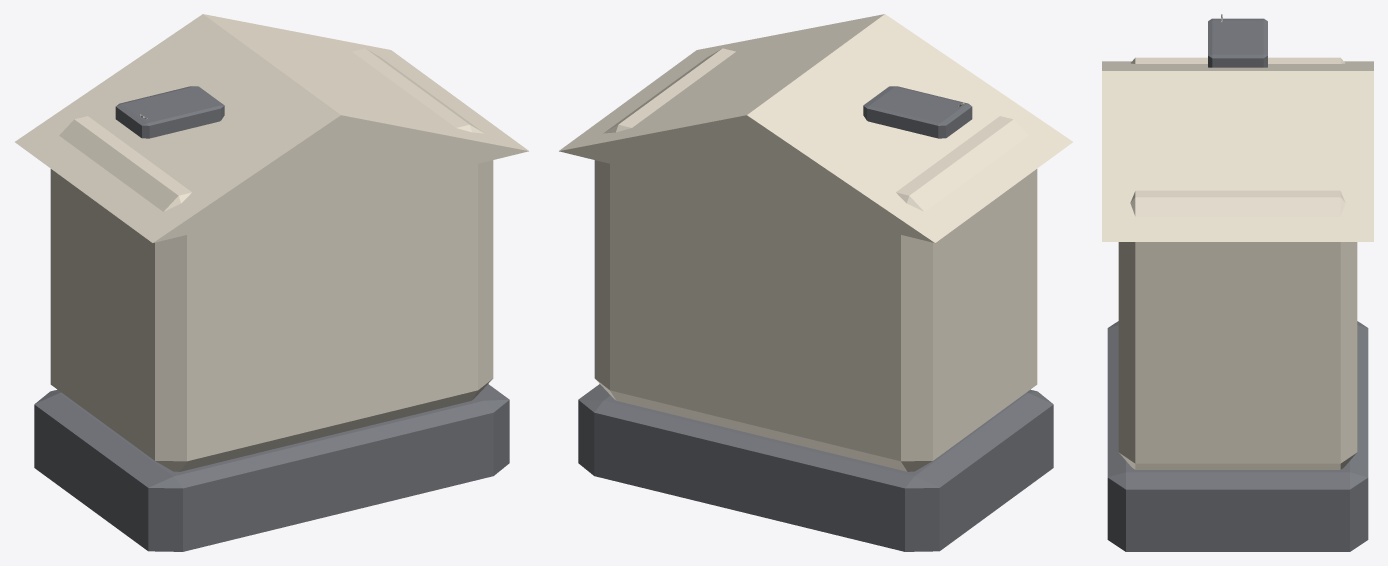
The model's file is b10_farmers_market_canvas_stall.glb.
3 views of the same model, side by side, from view 1: azimuth 30°, elevation 25°; view 2: azimuth 150°, elevation 25°; view 3: azimuth 270°, elevation 25° (orthographic).
Visible parts, largest first — view 1: b10_farmers_market_canvas_stall; view 2: b10_farmers_market_canvas_stall; view 3: b10_farmers_market_canvas_stall.
Part boxes in pixels (x1,y1,x2,y2): b10_farmers_market_canvas_stall: (15, 14, 528, 551); b10_farmers_market_canvas_stall: (559, 14, 1072, 551); b10_farmers_market_canvas_stall: (1102, 14, 1373, 551).
Bounding box in the file's own units: 2.35 × 2.42 × 1.49.
